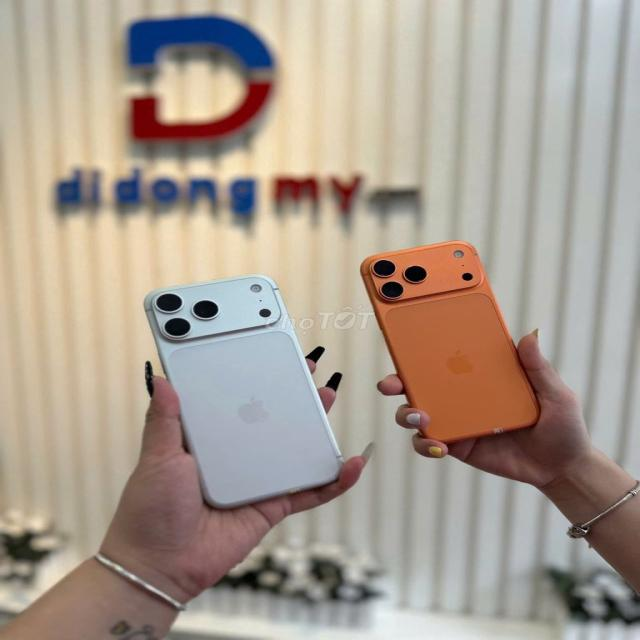gen_17: (364, 243, 547, 445)
